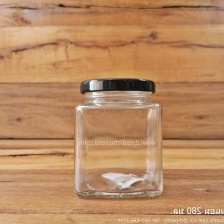glass: (54, 72, 171, 207)
